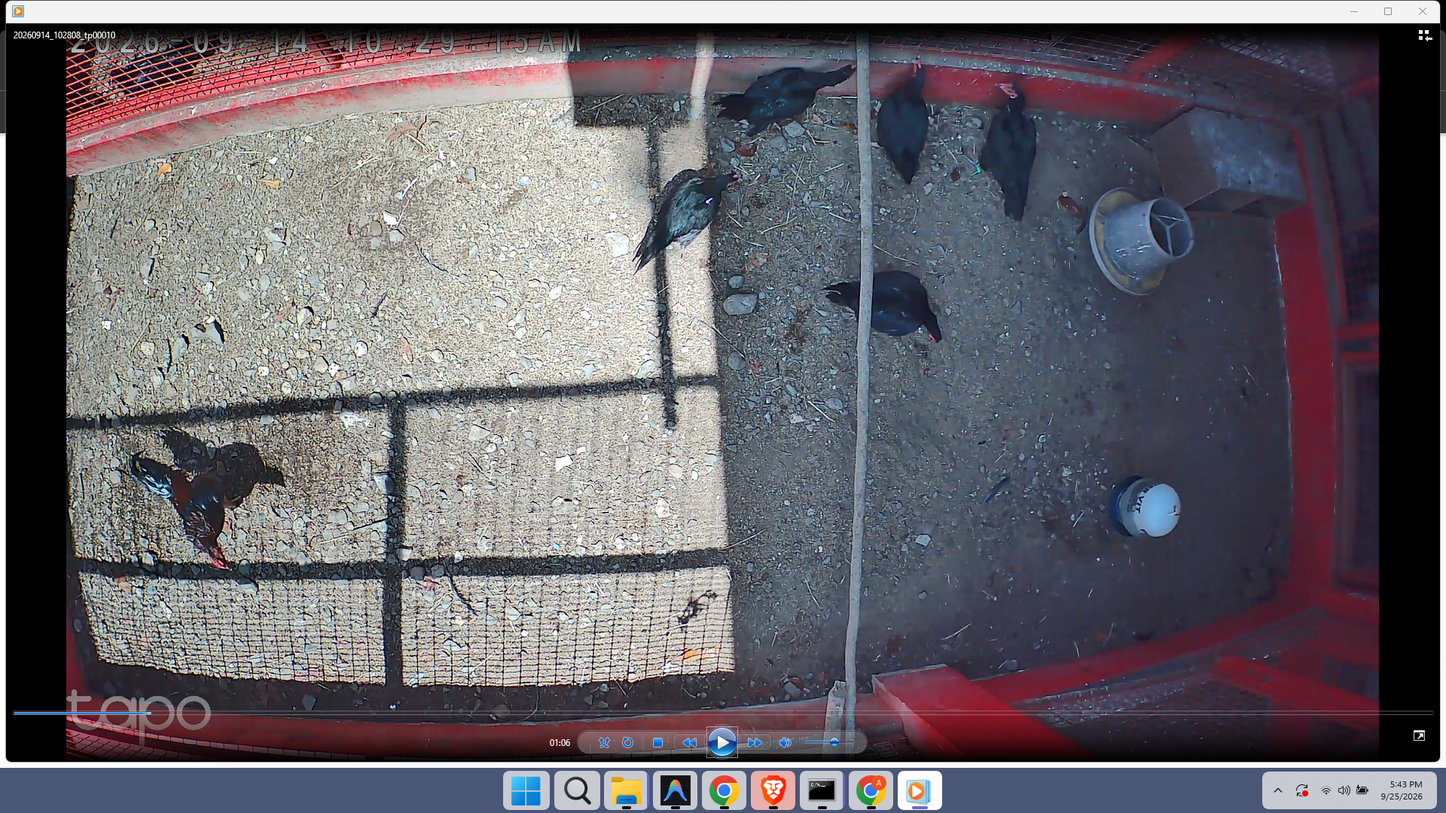Chicken: (631, 169, 745, 275), (963, 81, 1047, 220), (713, 58, 856, 136), (820, 268, 947, 347), (872, 55, 929, 186)
Drinker: (1106, 474, 1183, 539)
Feeder: (1087, 187, 1193, 296)
Leg_Band_Green: (970, 164, 981, 178)
Rooster: (119, 447, 257, 574)
